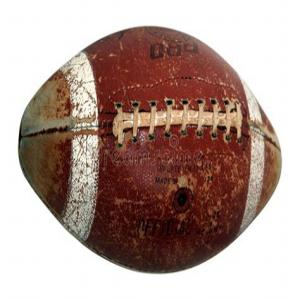Rugby: (18, 25, 282, 273)
